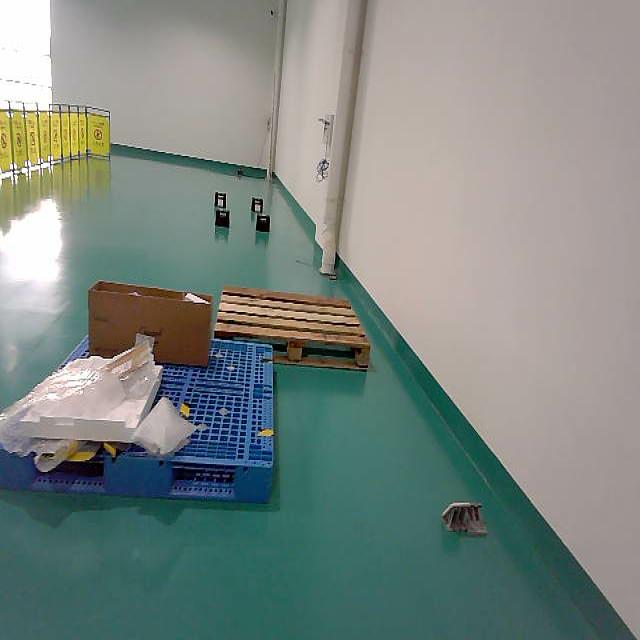euro: (213, 287, 371, 369)
